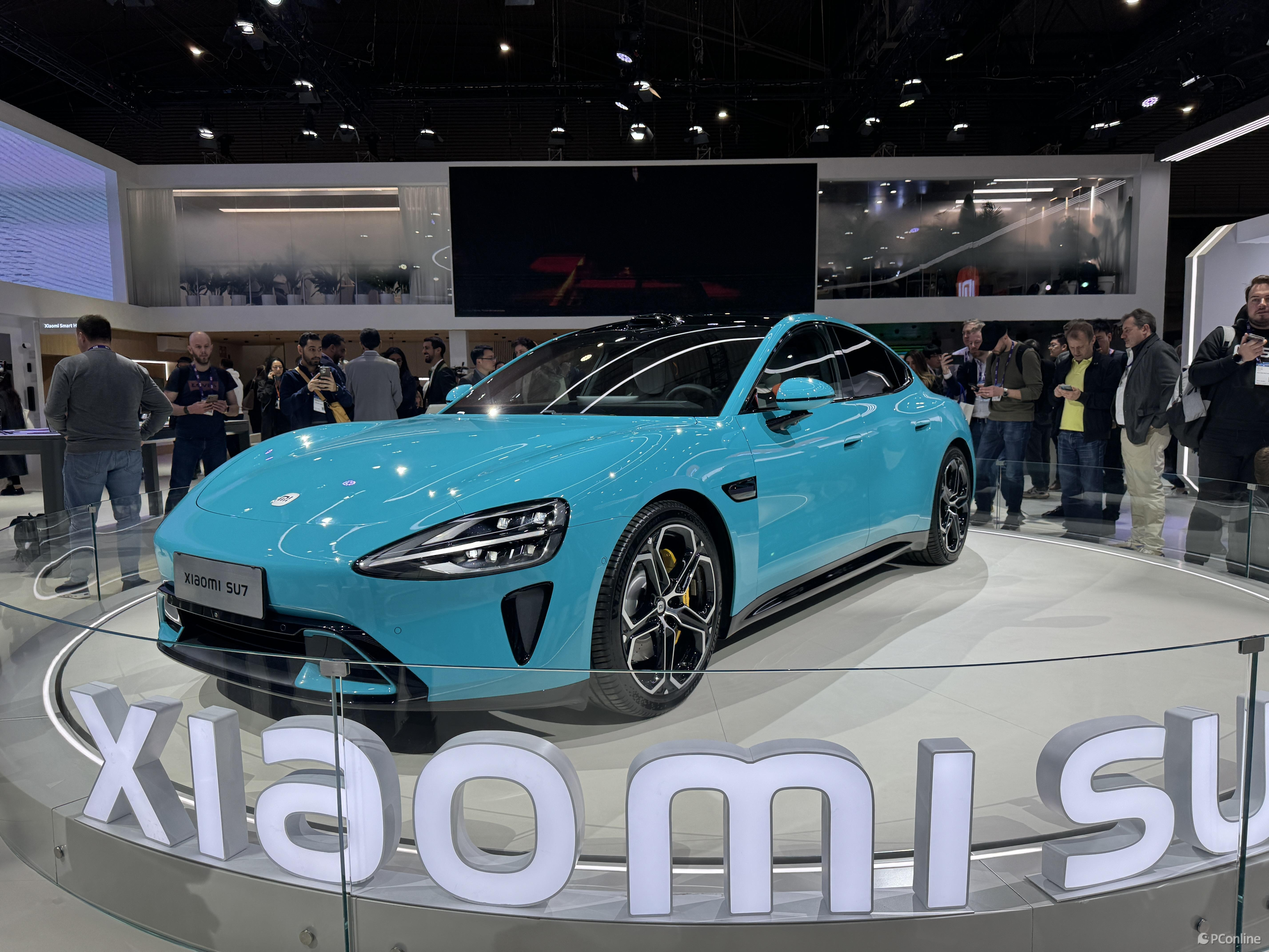su7: (161, 300, 986, 710)
